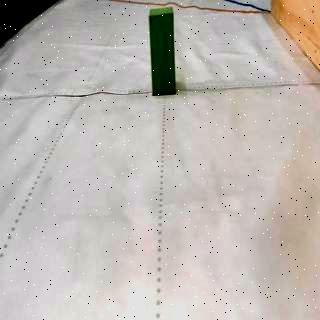greenbox: (150, 9, 176, 94)
